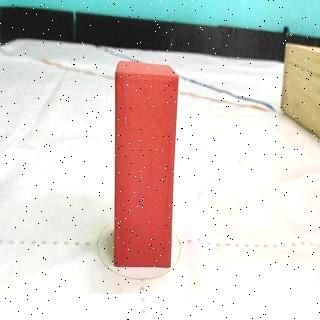redbox: (114, 59, 178, 268)
